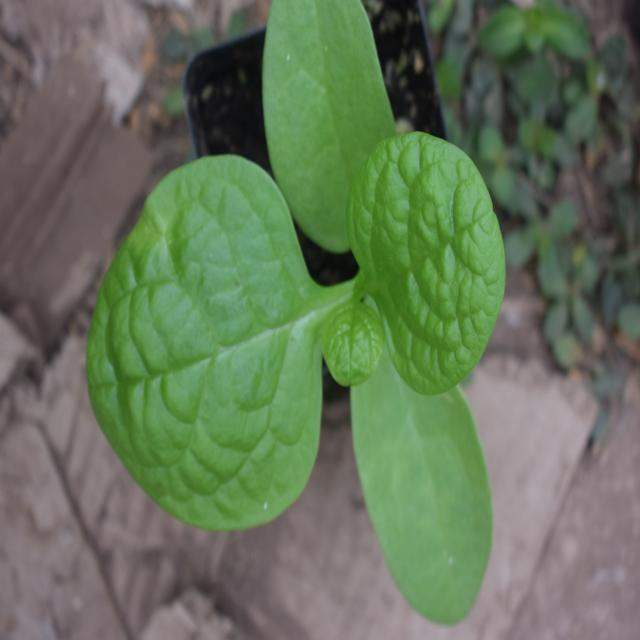Ceylon spinach: (113, 20, 500, 614)
